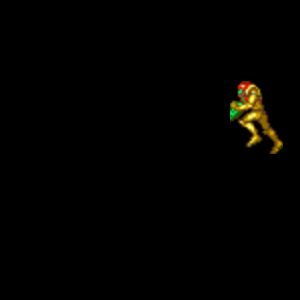Collectible: (230, 81, 283, 154)
